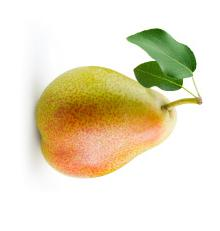pear: (0, 0, 220, 231)
